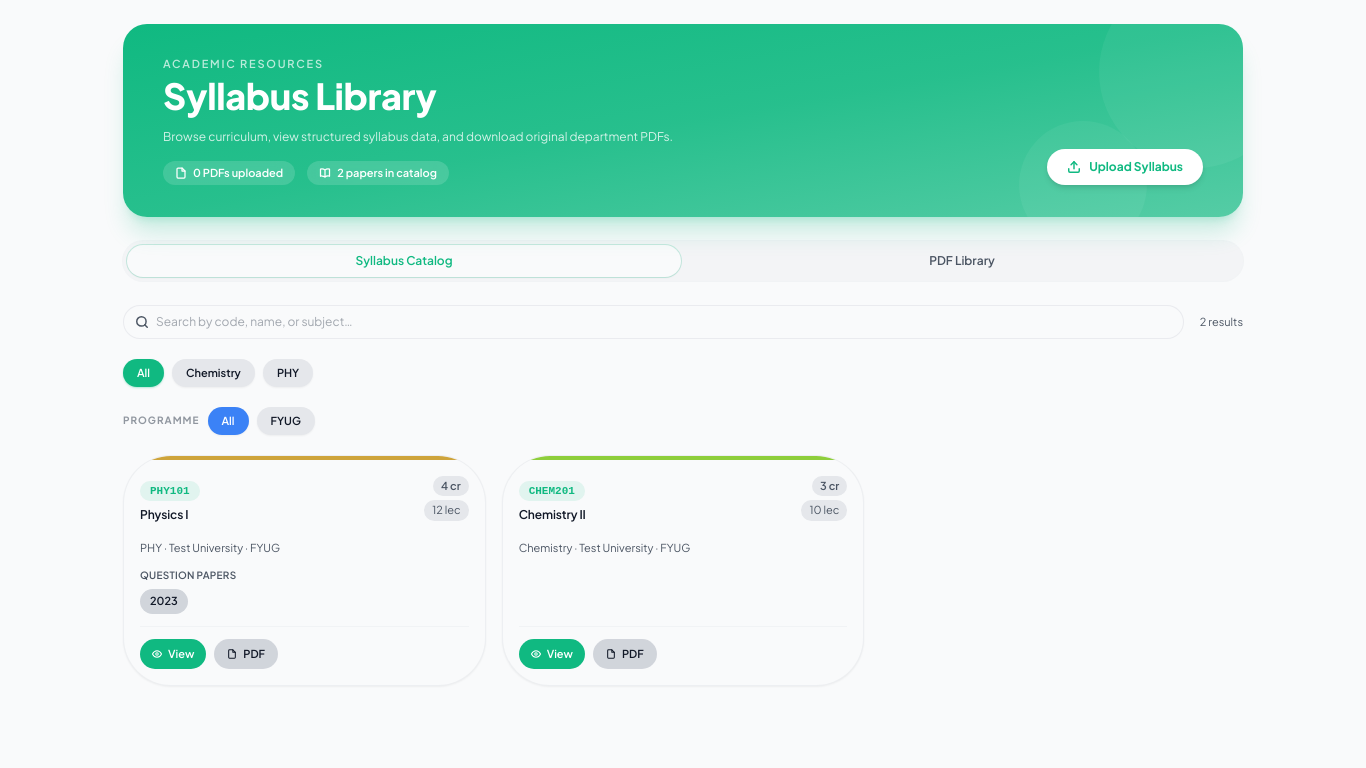
SyllabusCatalogClient › filters papers by subject chip
The width and height of the screenshot is (1366, 768).
Expected: the heading "Chemistry II" is shown, [519, 507, 586, 524]
// Click the "Chemistry" subject chip
Step 1. Click the button "Chemistry" → x=213, y=373, box [172, 359, 255, 387]
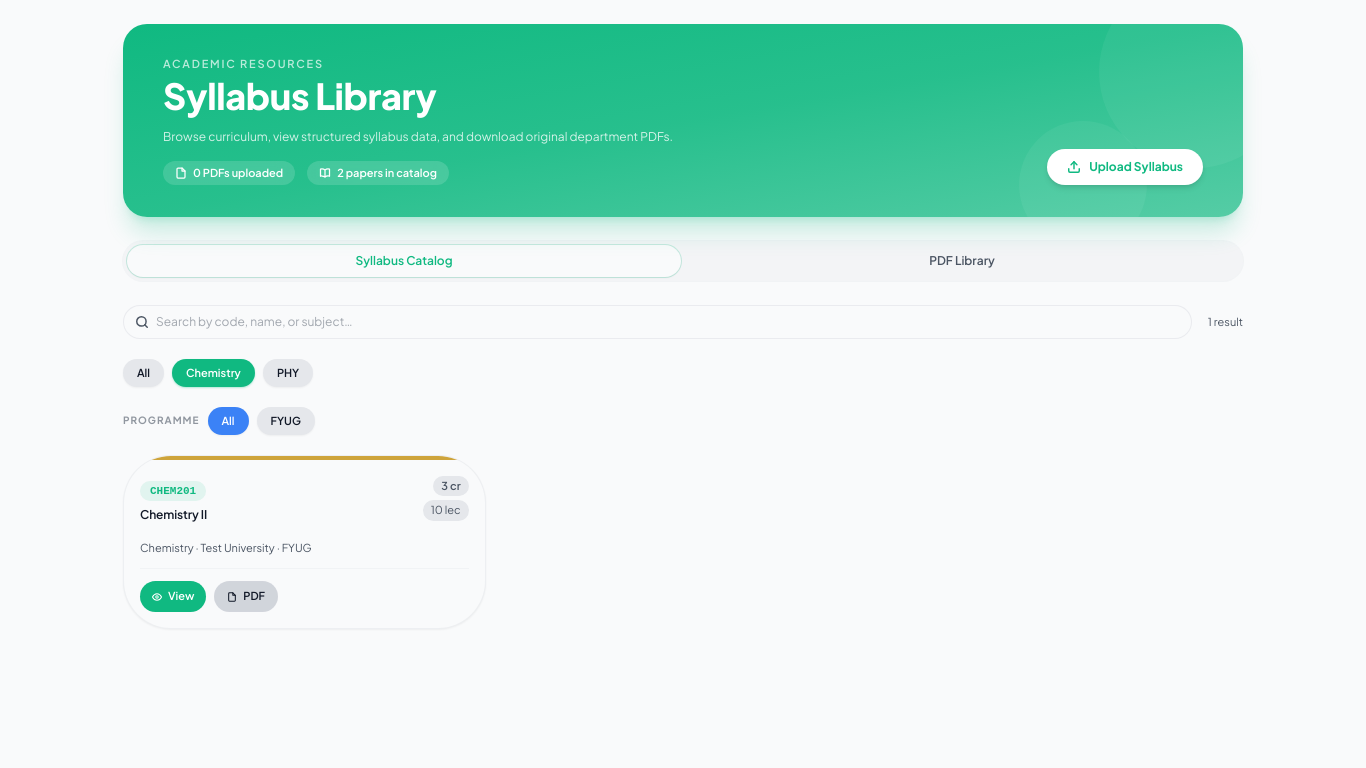
Expected: the heading "Chemistry II" is shown, [140, 507, 207, 524]
Now the link "Physics I" is gone
